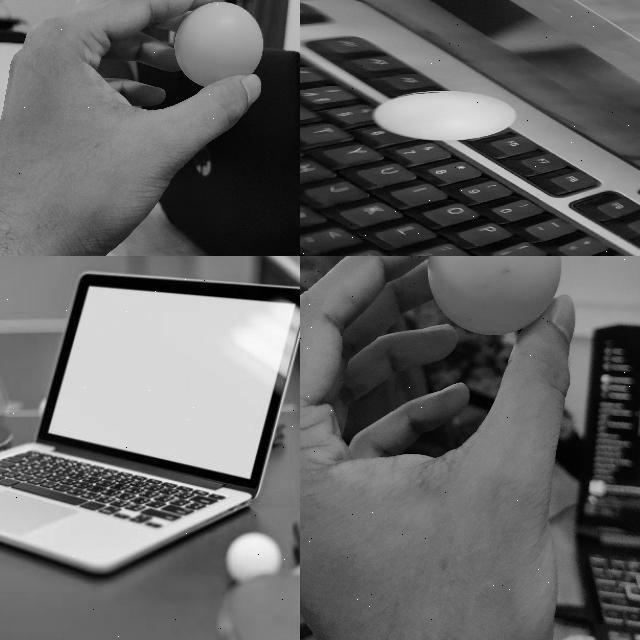ping-pong-ball: (428, 256, 563, 336), (173, 1, 263, 87), (374, 89, 512, 140), (225, 528, 288, 588)
